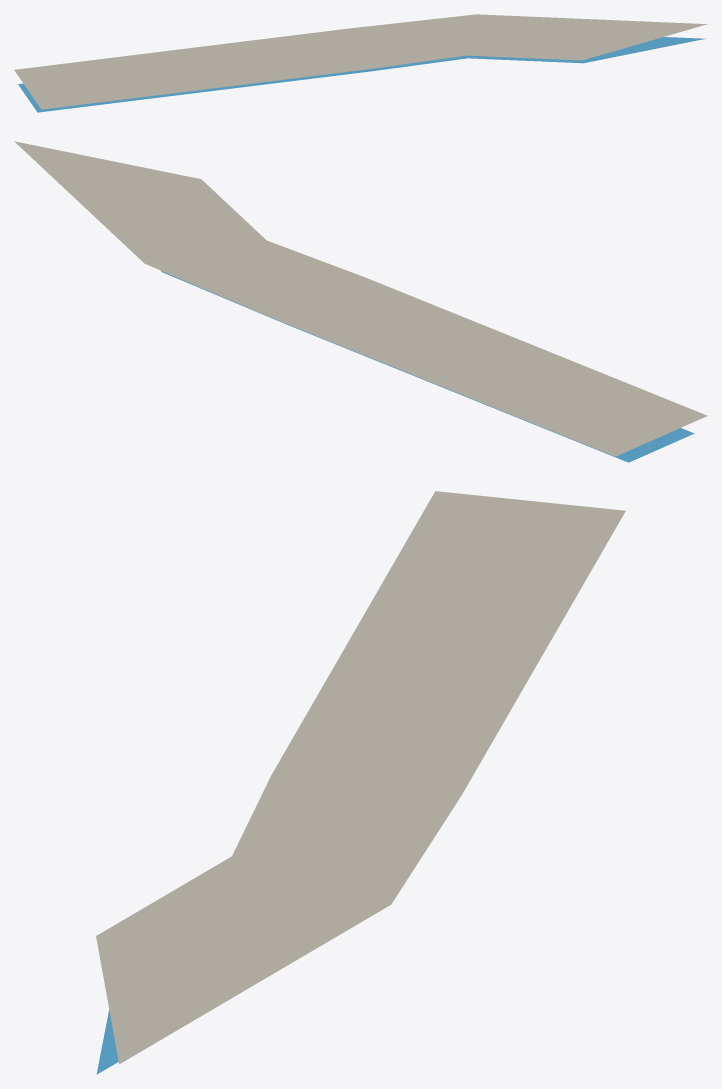
3 views of the same model, one above another, from view 1: azimuth 30°, elevation 25°; view 2: azimuth 150°, elevation 25°; view 3: azimuth 270°, elevation 25° (orthographic). The views are drawn at different scales.
Visible parts, largest first — view 1: estructura_terreno, estructura_agua; view 2: estructura_terreno, estructura_agua; view 3: estructura_terreno.
Boxes of the visible parts, box(x1,y1,x2,y2) form: estructura_terreno: box(14, 14, 707, 109); estructura_agua: box(18, 37, 705, 112); estructura_terreno: box(14, 141, 707, 456); estructura_agua: box(160, 270, 694, 462); estructura_terreno: box(96, 491, 625, 1063).
Bounding box in the file's own units: 29.04 × 0.41 × 11.35.
